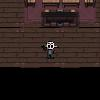Hide: (40, 9, 79, 26)
Jason: (40, 40, 59, 59)
